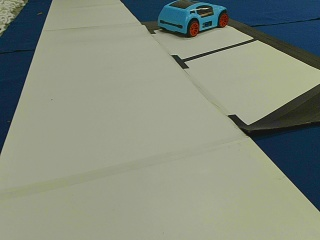car: (157, 2, 228, 36)
